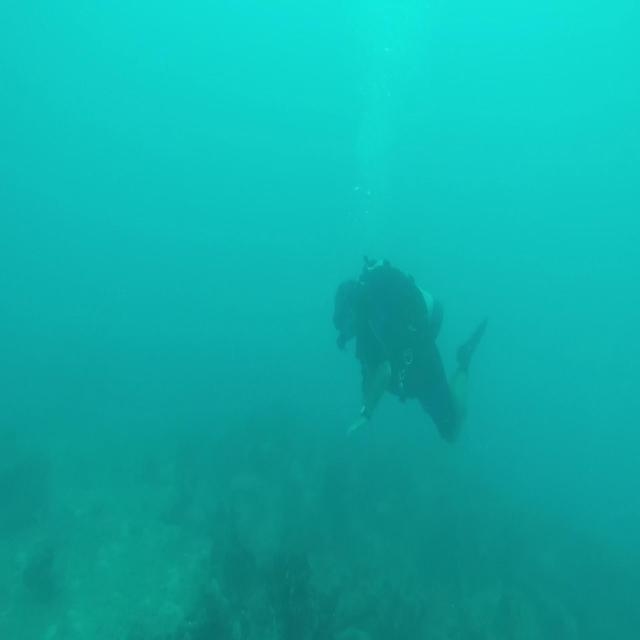human: (332, 255, 488, 444)
